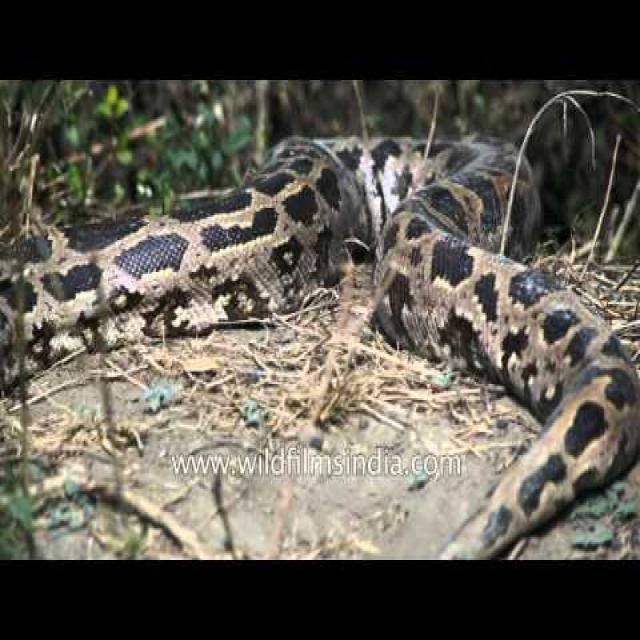Snake: (0, 128, 639, 558)
